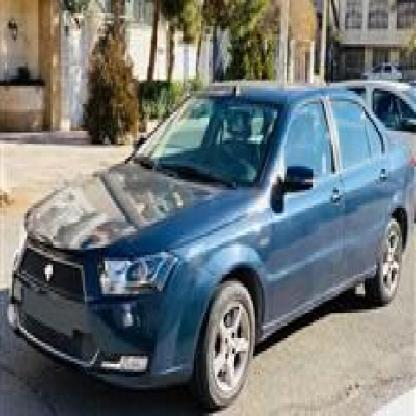Car: (0, 93, 416, 397), (327, 78, 416, 156), (359, 60, 406, 82)
